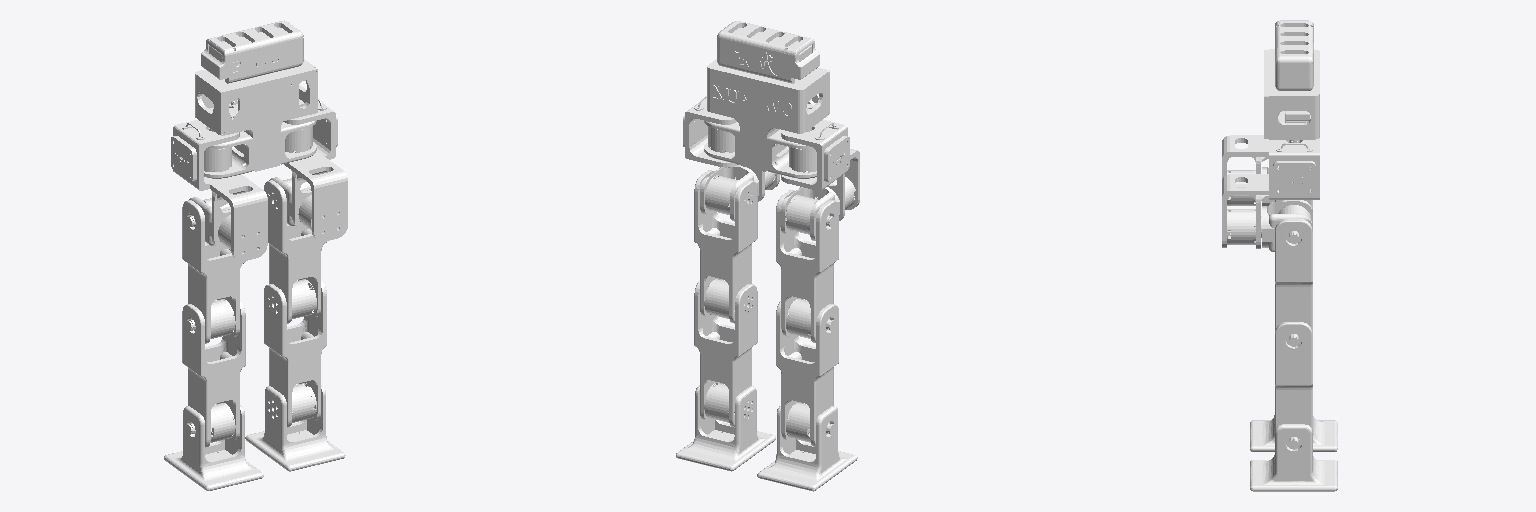
URDF robot description (Xuanwu):
<?xml version="1.0" encoding="utf-8"?>
<!-- This URDF was automatically created by SolidWorks to URDF Exporter! Originally created by [author] ([email redacted]) 
     Commit Version: 1.6.0-4-g7f85cfe  Build Version: 1.6.7995.38578
     For more information, please see http://wiki.ros.org/sw_urdf_exporter -->
<robot
  name="Xuanwu">
  <link
    name="base_link">
    <inertial>
      <origin
        xyz="0.001 0 0.07"
        rpy="0 0 0" />
      <mass
        value="1.894" />
      <inertia
        ixx="0.010281"
        ixy="-0.000026"
        ixz="0.000041"
        iyy="0.015443"
        iyz="0.000023"
        izz="0.006341" />
    </inertial>
    <visual>
      <origin
        xyz="0 0 0"
        rpy="0 0 0" />
      <geometry>
        <mesh
          filename="../meshes/base_link.STL" />
      </geometry>
      <material
        name="">
        <color
          rgba="1 1 1 1" />
      </material>
    </visual>
    <collision>
      <origin
        xyz="0 0 0.2"
        rpy="0 0 0" />
      <geometry>
        <box size="0.1 0.2 0.2"/>
      </geometry>
    </collision>
  </link>
  <link
    name="link_1">
    <inertial>
      <origin
        xyz="-0.007 -0.06 -0.073"
        rpy="0 0 0" />
      <mass
        value="0.547" />
      <inertia
        ixx="0.002384"
        ixy="0.000245"
        ixz="0.000302"
        iyy="0.001710"
        iyz="-0.000927"
        izz="0.001161" />
    </inertial>
    <visual>
      <origin
        xyz="0 0 0"
        rpy="0 0 0" />
      <geometry>
        <mesh
          filename="../meshes/link_1.STL" />
      </geometry>
      <material
        name="">
        <color
          rgba="1 1 1 1" />
      </material>
    </visual>
    <!-- <collision>
      <origin
        xyz="0 0 0"
        rpy="0 0 0" />
      <geometry>
        <mesh
          filename="../meshes/link_1.STL" />
      </geometry>
    </collision> -->
  </link>
  <joint
    name="joint_1"
    type="revolute">
    <origin
      xyz="-0.073 0 -0.001"
      rpy="0 0 0" />
    <parent
      link="base_link" />
    <child
      link="link_1" />
    <axis
      xyz="0 0 1" />
    <limit
      lower="-0.5"
      upper="0.5"
      effort="7"
      velocity="12" />
  </joint>
  <link
    name="link_2">
    <inertial>
      <origin
        xyz="0 0.077 0"
        rpy="0 0 0" />
      <mass
        value="0.378" />
      <inertia
        ixx="0.000152"
        ixy="0"
        ixz="0"
        iyy="0.000106"
        iyz="0"
        izz="0.000167" />
    </inertial>
    <visual>
      <origin
        xyz="0 0 0"
        rpy="0 0 0" />
      <geometry>
        <mesh
          filename="../meshes/link_2.STL" />
      </geometry>
      <material
        name="">
        <color
          rgba="1 1 1 1" />
      </material>
    </visual>
    <!-- <collision>
      <origin
        xyz="0 0 0"
        rpy="0 0 0" />
      <geometry>
        <mesh
          filename="../meshes/link_2.STL" />
      </geometry>
    </collision> -->
  </link>
  <joint
    name="joint_2"
    type="revolute">
    <origin
      xyz="0 -0.083 -0.11"
      rpy="0 0 0" />
    <parent
      link="link_1" />
    <child
      link="link_2" />
    <axis
      xyz="0 1 0" />
    <limit
      lower="-0.7"
      upper="0.7"
      effort="7"
      velocity="12" />
  </joint>
  <link
    name="link_3">
    <inertial>
      <origin
        xyz="0 0 -0.1504"
        rpy="0 0 0" />
      <mass
        value="0.436" />
      <inertia
        ixx="0.001403"
        ixy="0"
        ixz="-0.000024"
        iyy="0.001465"
        iyz="0"
        izz="0.000207" />
    </inertial>
    <visual>
      <origin
        xyz="0 0 0"
        rpy="0 0 0" />
      <geometry>
        <mesh
          filename="../meshes/link_3.STL" />
      </geometry>
      <material
        name="">
        <color
          rgba="1 1 1 1" />
      </material>
    </visual>
    <!-- <collision>
      <origin
        xyz="0 0 0"
        rpy="0 0 0" />
      <geometry>
        <mesh
          filename="../meshes/link_3.STL" />
      </geometry>
    </collision> -->
  </link>
  <joint
    name="joint_3"
    type="revolute">
    <origin
      xyz="0 0.082 0"
      rpy="0 0 0" />
    <parent
      link="link_2" />
    <child
      link="link_3" />
    <axis
      xyz="1 0 0" />
    <limit
      lower="-0.25"
      upper="1.57"
      effort="7"
      velocity="12" />
  </joint>
  <link
    name="link_4">
    <inertial>
      <origin
        xyz="0 0 -0.1504"
        rpy="0 0 0" />
      <mass
        value="0.436" />
      <inertia
        ixx="0.001403"
        ixy="0"
        ixz="-0.000024"
        iyy="0.001465"
        iyz="0"
        izz="0.000207" />
    </inertial>
    <visual>
      <origin
        xyz="0 0 0"
        rpy="0 0 0" />
      <geometry>
        <mesh
          filename="../meshes/link_4.STL" />
      </geometry>
      <material
        name="">
        <color
          rgba="1 1 1 1" />
      </material>
    </visual>
    <!-- <collision>
      <origin
        xyz="0 0 0"
        rpy="0 0 0" />
      <geometry>
        <mesh
          filename="../meshes/link_4.STL" />
      </geometry>
    </collision> -->
  </link>
  <joint
    name="joint_4"
    type="revolute">
    <origin
      xyz="0 0 -0.18"
      rpy="0 0 0" />
    <parent
      link="link_3" />
    <child
      link="link_4" />
    <axis
      xyz="1 0 0" />
    <limit
      lower="-1.57"
      upper="1.57"
      effort="7"
      velocity="12" />
  </joint>
  <link
    name="link_5">
    <inertial>
      <origin
        xyz="0.04 0.03 0.07"
        rpy="0 0 0" />
      <mass
        value="0.105" />
      <inertia
        ixx="0.000202"
        ixy="0"
        ixz="-0.000008"
        iyy="0.000197"
        iyz="0"
        izz="0.000211" />
    </inertial>
    <visual>
      <origin
        xyz="0 0 0"
        rpy="0 0 0" />
      <geometry>
        <mesh
          filename="../meshes/link_5.STL" />
      </geometry>
      <material
        name="">
        <color
          rgba="1 1 1 1" />
      </material>
    </visual>
    <collision>
      <origin
        xyz="0 0 0"
        rpy="0 0 0" />
      <geometry>
        <mesh
          filename="../meshes/link_5.STL" />
      </geometry>
    </collision>
  </link>
  <joint
    name="joint_5"
    type="revolute">
    <origin
      xyz="0 0 -0.18"
      rpy="0 0 0" />
    <parent
      link="link_4" />
    <child
      link="link_5" />
    <axis
      xyz="1 0 0" />
    <limit
      lower="-1.57"
      upper="1.57"
      effort="7"
      velocity="12" />
  </joint>
  <link
    name="link_6">
    <inertial>
      <origin
        xyz="0.007 -0.06 -0.074"
        rpy="0 0 0" />
      <mass
        value="0.547" />
      <inertia
        ixx="0.002384"
        ixy="-0.000245"
        ixz="-0.000302"
        iyy="0.001710"
        iyz="-0.000927"
        izz="0.001161" />
    </inertial>
    <visual>
      <origin
        xyz="0 0 0"
        rpy="0 0 0" />
      <geometry>
        <mesh
          filename="../meshes/link_6.STL" />
      </geometry>
      <material
        name="">
        <color
          rgba="1 1 1 1" />
      </material>
    </visual>
    <!-- <collision>
      <origin
        xyz="0 0 0"
        rpy="0 0 0" />
      <geometry>
        <mesh
          filename="../meshes/link_6.STL" />
      </geometry>
    </collision> -->
  </link>
  <joint
    name="joint_6"
    type="revolute">
    <origin
      xyz="0.073 0 -0.001"
      rpy="0 0 0" />
    <parent
      link="base_link" />
    <child
      link="link_6" />
    <axis
      xyz="0 0 1" />
    <limit
      lower="-0.5"
      upper="0.5"
      effort="7"
      velocity="12" />
  </joint>
  <link
    name="link_7">
    <inertial>
      <origin
        xyz="0 0.077 0"
        rpy="0 0 0" />
      <mass
        value="0.378" />
      <inertia
        ixx="0.000152"
        ixy="0"
        ixz="0"
        iyy="0.000106"
        iyz="0"
        izz="0.000167" />
    </inertial>
    <visual>
      <origin
        xyz="0 0 0"
        rpy="0 0 0" />
      <geometry>
        <mesh
          filename="../meshes/link_7.STL" />
      </geometry>
      <material
        name="">
        <color
          rgba="1 1 1 1" />
      </material>
    </visual>
    <!-- <collision>
      <origin
        xyz="0 0 0"
        rpy="0 0 0" />
      <geometry>
        <mesh
          filename="../meshes/link_7.STL" />
      </geometry>
    </collision> -->
  </link>
  <joint
    name="joint_7"
    type="revolute">
    <origin
      xyz="0 -0.083 -0.11"
      rpy="0 0 0" />
    <parent
      link="link_6" />
    <child
      link="link_7" />
    <axis
      xyz="0 1 0" />
    <limit
      lower="-0.7"
      upper="0.7"
      effort="7"
      velocity="12" />
  </joint>
  <link
    name="link_8">
    <inertial>
      <origin
        xyz="0 0 -0.1504"
        rpy="0 0 0" />
      <mass
        value="0.436" />
      <inertia
        ixx="0.001403"
        ixy="0"
        ixz="0.000024"
        iyy="0.001465"
        iyz="0"
        izz="0.000207" />
    </inertial>
    <visual>
      <origin
        xyz="0 0 0"
        rpy="0 0 0" />
      <geometry>
        <mesh
          filename="../meshes/link_8.STL" />
      </geometry>
      <material
        name="">
        <color
          rgba="1 1 1 1" />
      </material>
    </visual>
    <!-- <collision>
      <origin
        xyz="0 0 0"
        rpy="0 0 0" />
      <geometry>
        <mesh
          filename="../meshes/link_8.STL" />
      </geometry>
    </collision> -->
  </link>
  <joint
    name="joint_8"
    type="revolute">
    <origin
      xyz="0 0.082 0"
      rpy="0 0 0" />
    <parent
      link="link_7" />
    <child
      link="link_8" />
    <axis
      xyz="1 0 0" />
    <limit
      lower="-0.25"
      upper="1.57"
      effort="7"
      velocity="12" />
  </joint>
  <link
    name="link_9">
    <inertial>
      <origin
        xyz="0 0 -0.1504"
        rpy="0 0 0" />
      <mass
        value="0.436" />
      <inertia
        ixx="0.001403"
        ixy="0"
        ixz="0.000024"
        iyy="0.001465"
        iyz="0"
        izz="0.000207" />
    </inertial>
    <visual>
      <origin
        xyz="0 0 0"
        rpy="0 0 0" />
      <geometry>
        <mesh
          filename="../meshes/link_9.STL" />
      </geometry>
      <material
        name="">
        <color
          rgba="1 1 1 1" />
      </material>
    </visual>
    <!-- <collision>
      <origin
        xyz="0 0 0"
        rpy="0 0 0" />
      <geometry>
        <mesh
          filename="../meshes/link_9.STL" />
      </geometry>
    </collision> -->
  </link>
  <joint
    name="joint_9"
    type="revolute">
    <origin
      xyz="0 0 -0.18"
      rpy="0 0 0" />
    <parent
      link="link_8" />
    <child
      link="link_9" />
    <axis
      xyz="1 0 0" />
    <limit
      lower="-1.57"
      upper="1.57"
      effort="7"
      velocity="12" />
  </joint>
  <link
    name="link_10">
    <inertial>
      <origin
        xyz="0 0 -0.053"
        rpy="0 0 0" />
      <mass
        value="0.105" />
      <inertia
        ixx="0.000202"
        ixy="0"
        ixz="0.000008"
        iyy="0.000197"
        iyz="0"
        izz="0.000211" />
    </inertial>
    <visual>
      <origin
        xyz="0 0 0"
        rpy="0 0 0" />
      <geometry>
        <mesh
          filename="../meshes/link_10.STL" />
      </geometry>
      <material
        name="">
        <color
          rgba="1 1 1 1" />
      </material>
    </visual>
    <collision>
      <origin
        xyz="0 0 0"
        rpy="0 0 0" />
      <geometry>
        <mesh
          filename="../meshes/link_10.STL" />
      </geometry>
    </collision>
  </link>
  <joint
    name="joint_10"
    type="revolute">
    <origin
      xyz="0 0 -0.18"
      rpy="0 0 0" />
    <parent
      link="link_9" />
    <child
      link="link_10" />
    <axis
      xyz="1 0 0" />
    <limit
      lower="-1.57"
      upper="1.57"
      effort="7"
      velocity="12" />
  </joint>
</robot>

--- Render facts (derived) ---
The picture shows the robot from 3 angles, left to right: view 1: azimuth 30°, elevation 25°; view 2: azimuth 150°, elevation 25°; view 3: azimuth 270°, elevation 25°; orthographic projection.
Robot: Xuanwu — 11 links, 10 joints (10 revolute); root link base_link; default pose: all joints at 0.
Visible links, largest first — view 1: base_link, link_1, link_4, link_9, link_6, link_3, link_8, link_10, link_5, link_2; view 2: base_link, link_8, link_3, link_9, link_4, link_10, link_5, link_1, link_6, link_2, link_7; view 3: base_link, link_6, link_10, link_8, link_9, link_1, link_5, link_7.
Boxes of the visible links, bbox=[...] form: base_link: bbox=[195, 20, 317, 178]; link_1: bbox=[171, 120, 267, 260]; link_4: bbox=[182, 301, 245, 447]; link_9: bbox=[264, 281, 326, 427]; link_6: bbox=[283, 99, 347, 241]; link_3: bbox=[182, 200, 245, 343]; link_8: bbox=[264, 180, 326, 323]; link_10: bbox=[245, 385, 345, 471]; link_5: bbox=[164, 405, 263, 490]; link_2: bbox=[187, 197, 230, 245]; base_link: bbox=[704, 21, 829, 178]; link_8: bbox=[694, 170, 757, 323]; link_3: bbox=[776, 190, 838, 342]; link_9: bbox=[694, 281, 757, 427]; link_4: bbox=[776, 301, 838, 446]; link_10: bbox=[676, 385, 775, 471]; link_5: bbox=[757, 406, 857, 491]; link_1: bbox=[781, 120, 859, 220]; link_6: bbox=[683, 96, 779, 201]; link_2: bbox=[780, 187, 839, 240]; link_7: bbox=[700, 165, 758, 221]; base_link: bbox=[1264, 20, 1319, 142]; link_6: bbox=[1222, 138, 1319, 248]; link_10: bbox=[1250, 424, 1337, 491]; link_8: bbox=[1275, 200, 1312, 346]; link_9: bbox=[1275, 322, 1312, 449]; link_1: bbox=[1222, 135, 1268, 205]; link_5: bbox=[1250, 415, 1337, 451]; link_7: bbox=[1261, 202, 1312, 251].
Size in the robot's own frame: 0.2639 by 0.184 by 0.7363 metres.
11 mesh visuals loaded from 11 distinct referenced files (11 binary STL).
